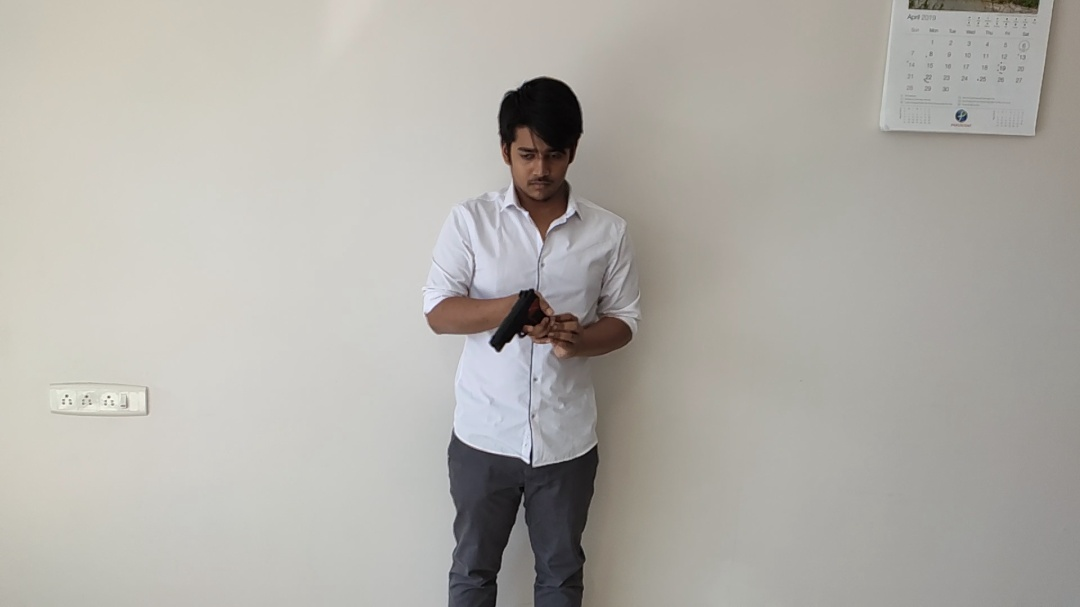gun: (488, 288, 549, 353)
